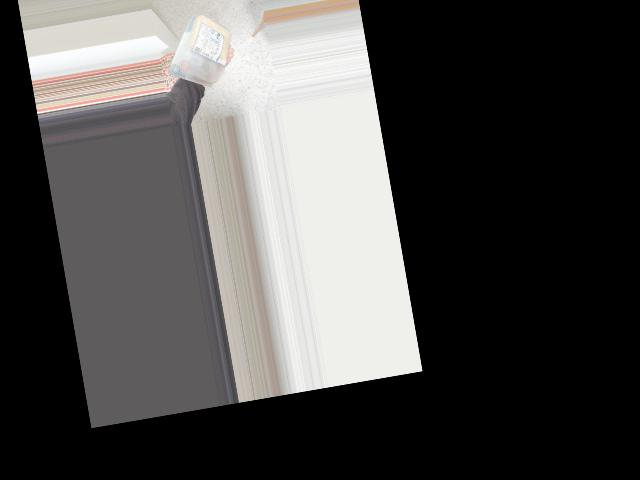cheese: (163, 6, 239, 91)
